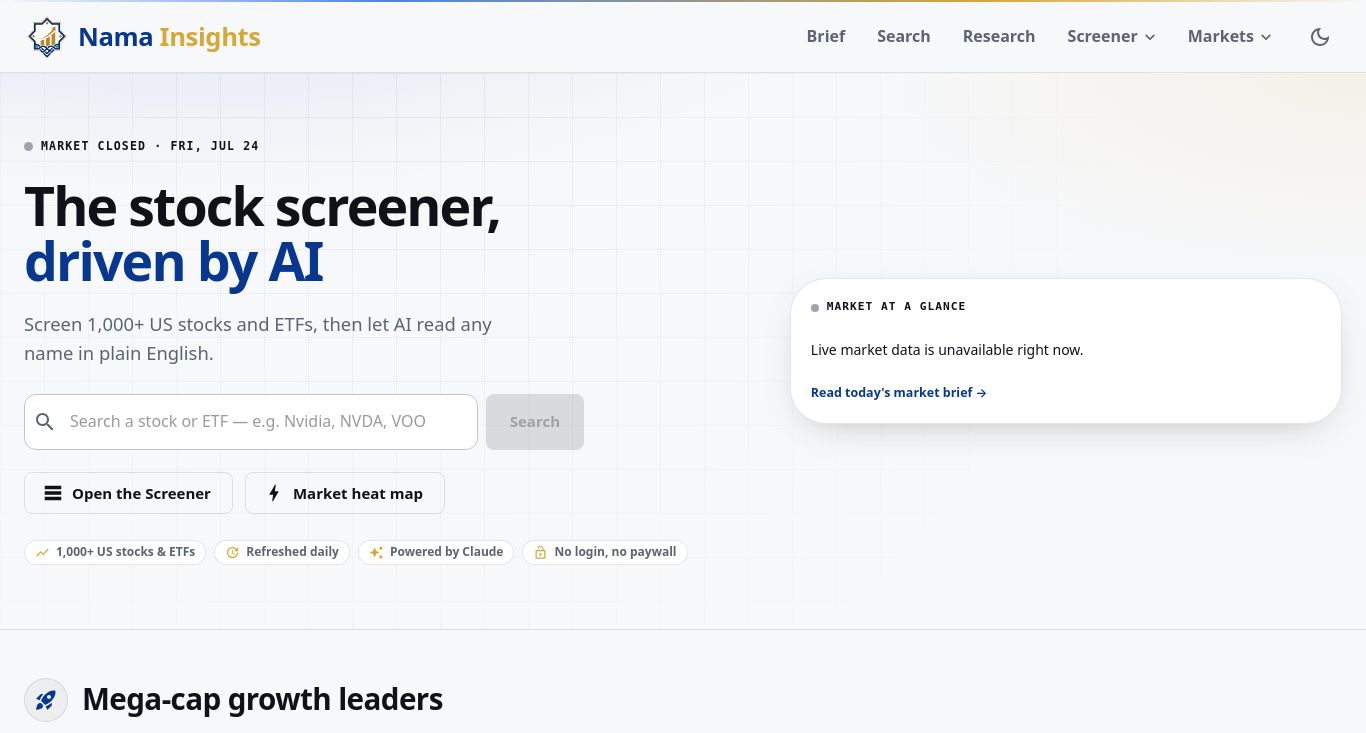
it: App routing › renders the stock screener page at /screener
This screenshot has width=1366, height=733.
What coordinates should you click on to do the following:
click the button "Screener"
I would click on:
 (1112, 37)
Its box is [1054,21,1170,53].
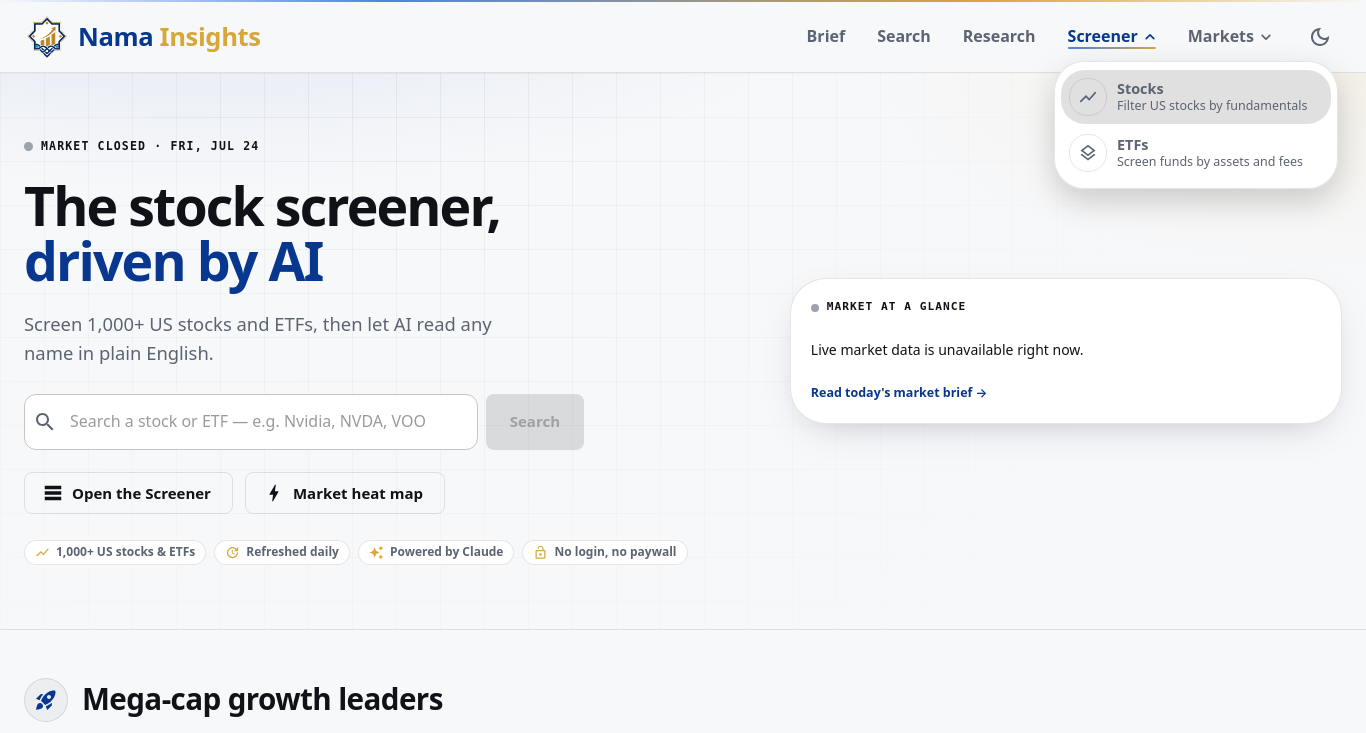
What coordinates should you click on to do the following:
click the menu item "Stocks Filter US stocks by fundamentals"
I would click on:
 (1196, 97)
Its box is [1061,70,1331,124].
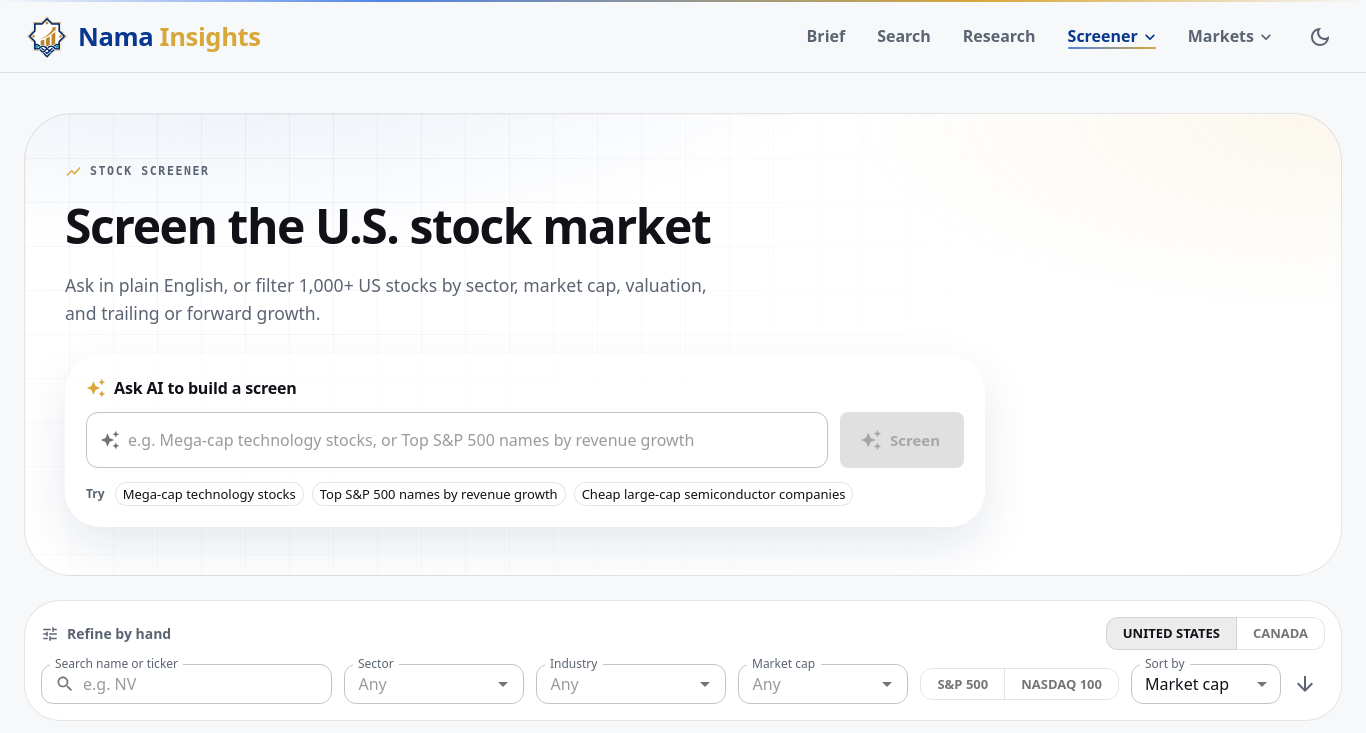
Expected: the heading "Screen the U.S. stock market" is shown, [65,193,710,258]
